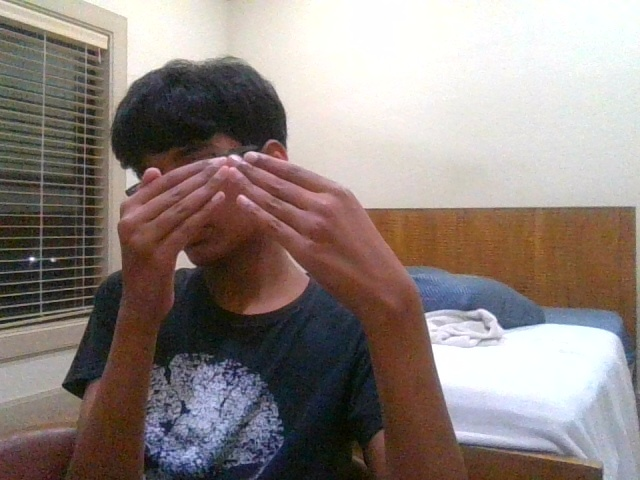thanks: (117, 151, 410, 306)
